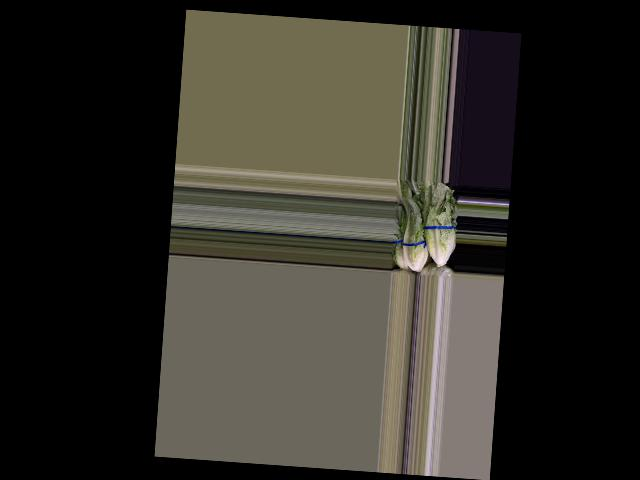lettuce: (394, 195, 432, 273)
